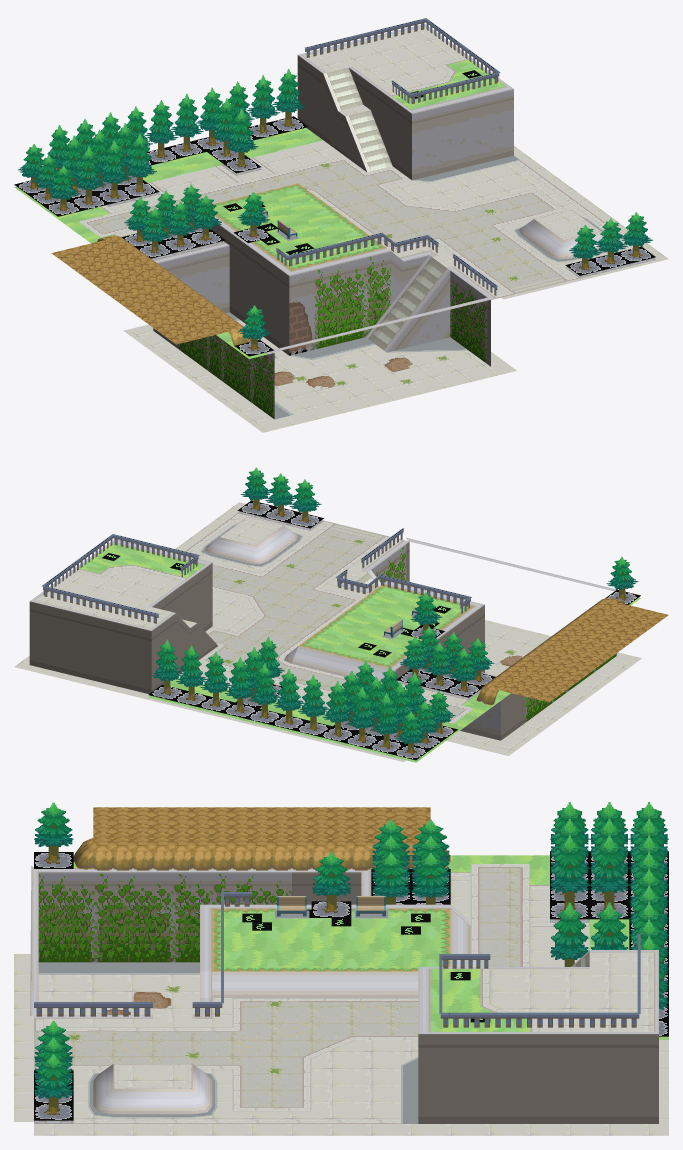
File: Accumula town.fbx
3 renders of one model, top to bottom at view 1: azimuth 30°, elevation 25°; view 2: azimuth 150°, elevation 25°; view 3: azimuth 270°, elevation 25°, orthographic. The views are drawn at different scales.
Parts seen in each view (by area): view 1: polygon0, polygon6, polygon21, polygon19, polygon9, polygon18, polygon11, polygon17, polygon10, polygon5, polygon1, polygon15 (+10 smaller); view 2: polygon6, polygon19, polygon0, polygon9, polygon11, polygon10, polygon5, polygon15, polygon21, polygon1, polygon4, polygon7 (+8 smaller); view 3: polygon0, polygon19, polygon6, polygon9, polygon15, polygon11, polygon17, polygon10, polygon1, polygon21, polygon5, polygon4 (+12 smaller).
Boxes of the visible parts, box(x1,y1,x2,y2) form: polygon0: box(109, 26, 668, 299); polygon6: box(22, 69, 647, 348); polygon21: box(123, 320, 516, 432); polygon19: box(153, 55, 490, 366); polygon9: box(88, 160, 559, 288); polygon18: box(157, 89, 513, 352); polygon11: box(14, 59, 505, 358); polygon17: box(179, 257, 487, 419); polygon10: box(51, 235, 239, 344); polygon5: box(14, 116, 655, 356); polygon1: box(78, 57, 632, 298); polygon15: box(154, 24, 603, 354); polygon6: box(156, 467, 633, 753); polygon19: box(29, 542, 525, 740); polygon0: box(14, 502, 462, 761); polygon9: box(207, 529, 464, 719); polygon11: box(79, 543, 640, 762); polygon10: box(489, 597, 668, 702); polygon5: box(148, 500, 640, 760); polygon15: box(30, 525, 615, 683); polygon21: box(446, 620, 641, 755); polygon1: box(75, 513, 473, 723); polygon4: box(41, 528, 471, 623); polygon7: box(151, 489, 638, 743); polygon0: box(34, 876, 668, 1135); polygon19: box(292, 872, 658, 1123); polygon6: box(35, 802, 667, 1111); polygon9: box(62, 868, 519, 1106); polygon15: box(30, 866, 658, 1114); polygon11: box(73, 855, 668, 1039); polygon17: box(38, 872, 291, 962); polygon10: box(93, 807, 430, 845); polygon1: box(34, 864, 589, 1123); polygon21: box(14, 954, 199, 1121); polygon5: box(34, 852, 668, 1120); polygon4: box(34, 892, 640, 1027).
Bounding box in the file's own units: 925 × 287 × 825.
29 materials, 29 textured.
